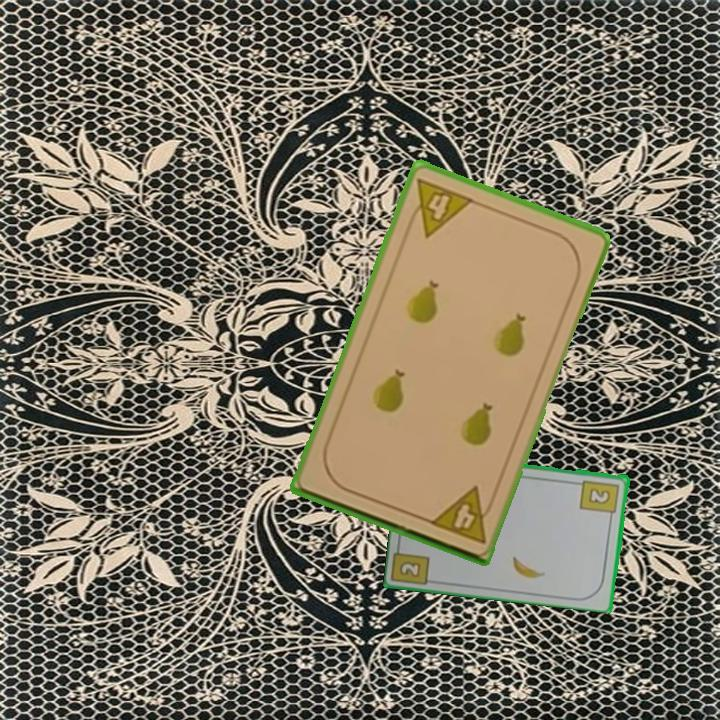2b: (577, 476, 622, 522), (396, 557, 424, 580)
4p: (402, 174, 477, 240), (425, 483, 499, 547)
